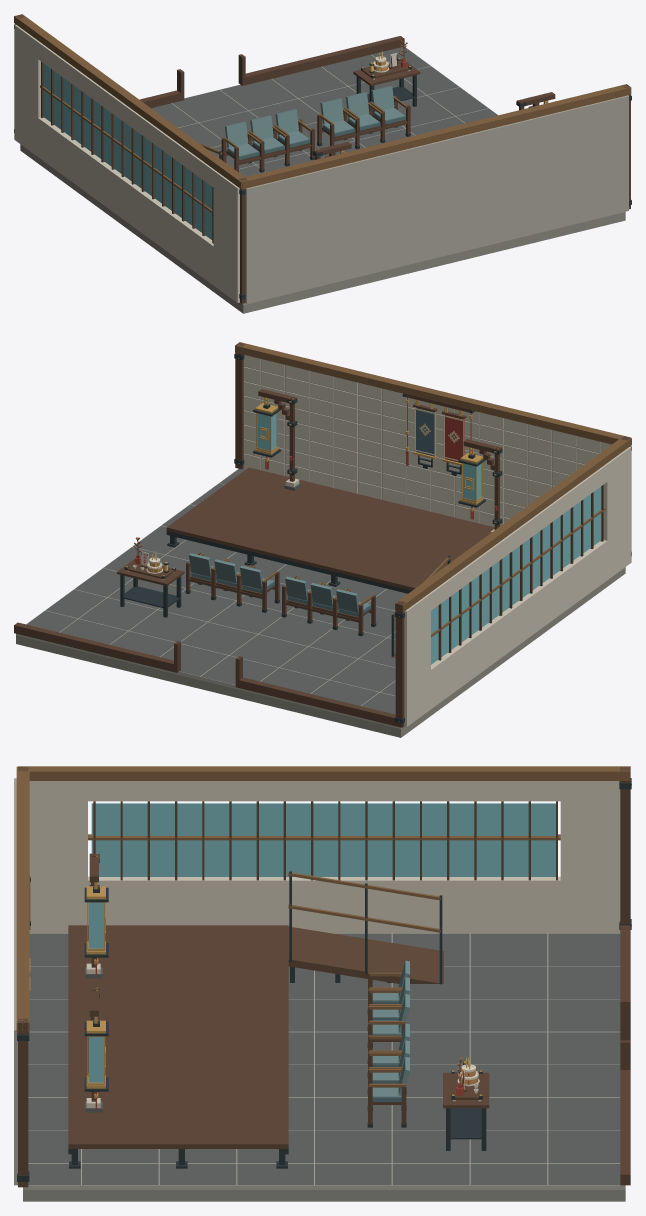
3 renders of one model, top to bottom at view 1: azimuth 30°, elevation 25°; view 2: azimuth 150°, elevation 25°; view 3: azimuth 270°, elevation 25°, orthographic. The views are drawn at different scales.
Parts seen in each view (by area): view 1: 真实窗洞、木梁与切角房间墙, 分层实心台基与独立石铺面, 三席连座与连续倾斜靠背 (×2), 实际承托工作面与四足, 生日/家庭庆典摆台; view 2: 真实窗洞、木梁与切角房间墙, 分层实心台基与独立石铺面, 整体木台、独立承脚与连续坡道, 三席连座与连续倾斜靠背 (×2), 节庆花灯外壳 · 独立光学用途 (×2), 节庆旗幡挂件, 实际承托工作面与四足, 生日/家庭庆典摆台; view 3: 真实窗洞、木梁与切角房间墙, 分层实心台基与独立石铺面, 整体木台、独立承脚与连续坡道, 三席连座与连续倾斜靠背 (×2), 节庆花灯外壳 · 独立光学用途 (×2), 实际承托工作面与四足, 生日/家庭庆典摆台.
Part boxes in pixels (x1,y1,x2,y2): 真实窗洞、木梁与切角房间墙: (14, 14, 631, 303); 分层实心台基与独立石铺面: (20, 46, 625, 313); 三席连座与连续倾斜靠背 (×2): (221, 86, 410, 172); 实际承托工作面与四足: (353, 60, 420, 114); 生日/家庭庆典摆台: (361, 40, 411, 79); 真实窗洞、木梁与切角房间墙: (14, 342, 631, 727); 分层实心台基与独立石铺面: (16, 468, 625, 737); 整体木台、独立承脚与连续坡道: (166, 467, 494, 658); 三席连座与连续倾斜靠背 (×2): (185, 552, 376, 636); 节庆花灯外壳 · 独立光学用途 (×2): (253, 389, 502, 532); 节庆旗幡挂件: (402, 393, 474, 475); 实际承托工作面与四足: (117, 559, 184, 617); 生日/家庭庆典摆台: (124, 537, 175, 579); 真实窗洞、木梁与切角房间墙: (14, 766, 631, 1187); 分层实心台基与独立石铺面: (23, 933, 625, 1201); 整体木台、独立承脚与连续坡道: (68, 871, 443, 1168); 三席连座与连续倾斜靠背 (×2): (367, 960, 409, 1127); 节庆花灯外壳 · 独立光学用途 (×2): (84, 853, 108, 1112); 实际承托工作面与四足: (443, 1072, 489, 1150); 生日/家庭庆典摆台: (451, 1057, 482, 1101).
Bounding box in the file's own units: 9.44 × 3.08 × 9.54.
29 materials, 29 textured.
